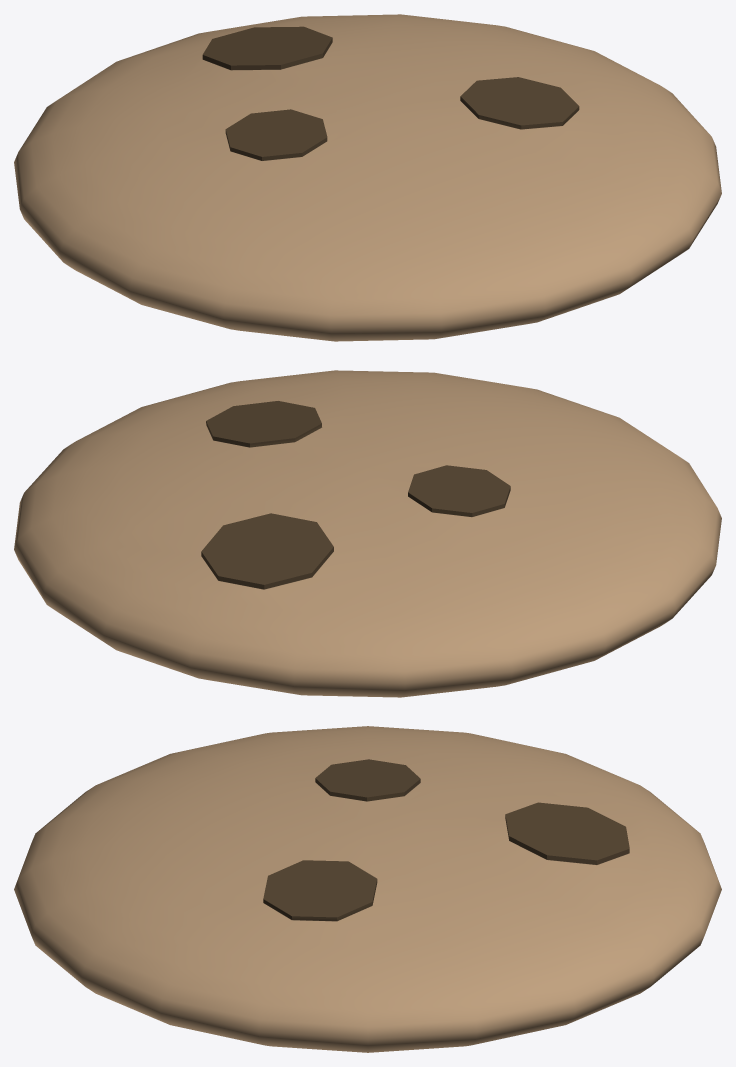
File: cookie.fbx
The picture shows the model from 3 angles, top to bottom: view 1: azimuth 30°, elevation 25°; view 2: azimuth 150°, elevation 25°; view 3: azimuth 270°, elevation 25°; orthographic projection.
Parts seen in each view (by area): view 1: pasted__Chocolate_Chip3; view 2: pasted__Chocolate_Chip3; view 3: pasted__Chocolate_Chip3.
Boxes of the visible parts, bbox=[...] form: pasted__Chocolate_Chip3: bbox=[14, 14, 721, 341]; pasted__Chocolate_Chip3: bbox=[14, 370, 721, 697]; pasted__Chocolate_Chip3: bbox=[14, 726, 721, 1052].
Size of the model in its own units: 2.44 by 0.5173 by 2.44.
